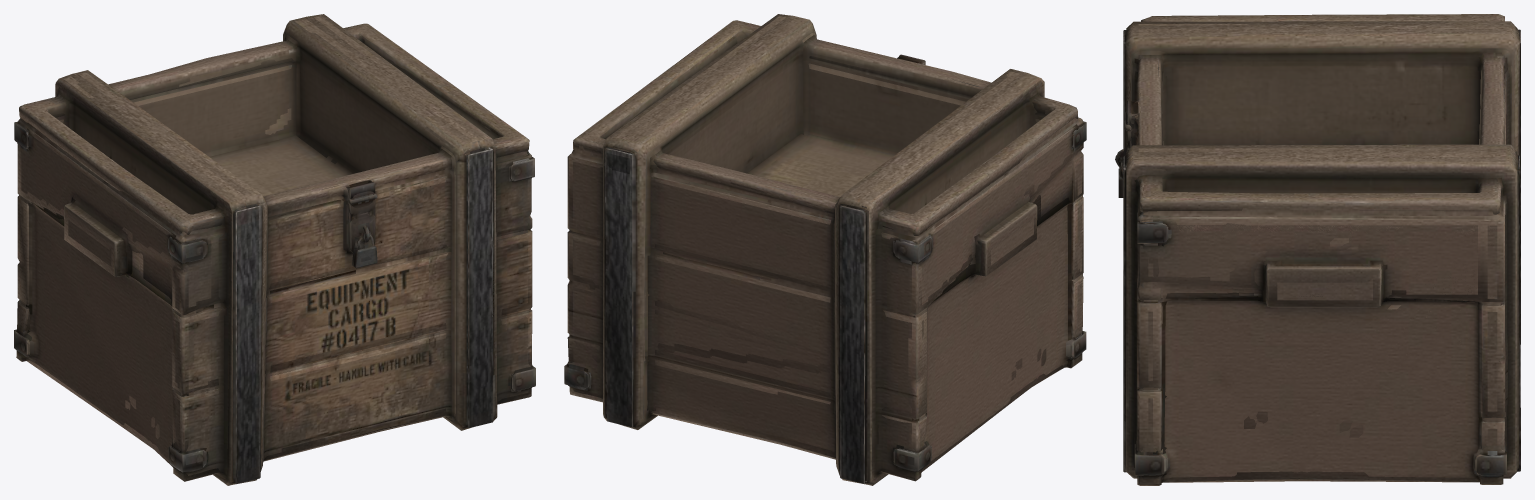
Rendered from Cargo_solid.glb.
The picture shows the model from 3 angles, left to right: view 1: azimuth 30°, elevation 25°; view 2: azimuth 150°, elevation 25°; view 3: azimuth 270°, elevation 25°; orthographic projection. The views are drawn at different scales.
Parts seen in each view (by area): view 1: tripo_node_a359bce8-5985-4162-9a8f-8fec2b56e0f5_solid, tripo_node_a359bce8-5985-4162-9a8f-8fec2b56e0f5; view 2: tripo_node_a359bce8-5985-4162-9a8f-8fec2b56e0f5_solid, tripo_node_a359bce8-5985-4162-9a8f-8fec2b56e0f5; view 3: tripo_node_a359bce8-5985-4162-9a8f-8fec2b56e0f5_solid, tripo_node_a359bce8-5985-4162-9a8f-8fec2b56e0f5.
Boxes of the visible parts, x1,y1,x2,y2 form: tripo_node_a359bce8-5985-4162-9a8f-8fec2b56e0f5_solid: [16, 16, 533, 483]; tripo_node_a359bce8-5985-4162-9a8f-8fec2b56e0f5: [14, 14, 535, 485]; tripo_node_a359bce8-5985-4162-9a8f-8fec2b56e0f5_solid: [566, 16, 1084, 483]; tripo_node_a359bce8-5985-4162-9a8f-8fec2b56e0f5: [564, 14, 1086, 485]; tripo_node_a359bce8-5985-4162-9a8f-8fec2b56e0f5_solid: [1118, 15, 1519, 482]; tripo_node_a359bce8-5985-4162-9a8f-8fec2b56e0f5: [1115, 14, 1520, 485].
Size of the model in its own units: 0.998 by 0.7324 by 0.8496.
1 material, 1 textured.
